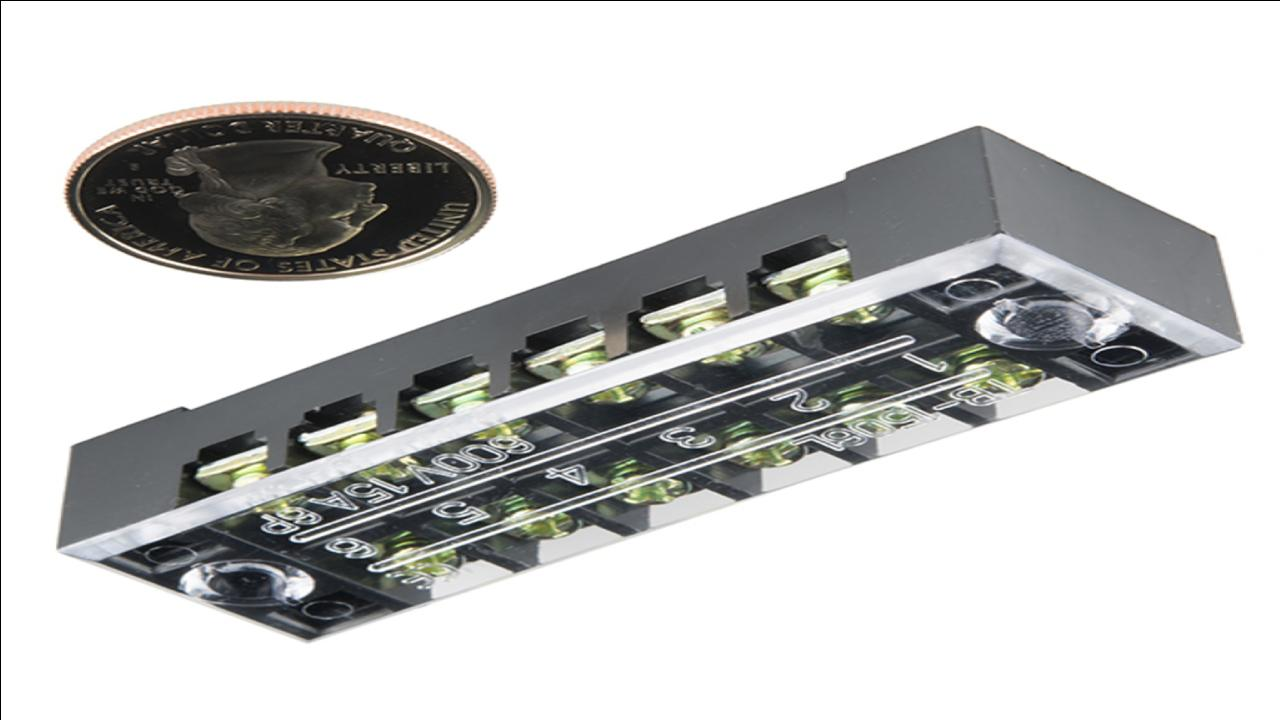coin: (58, 96, 498, 284)
